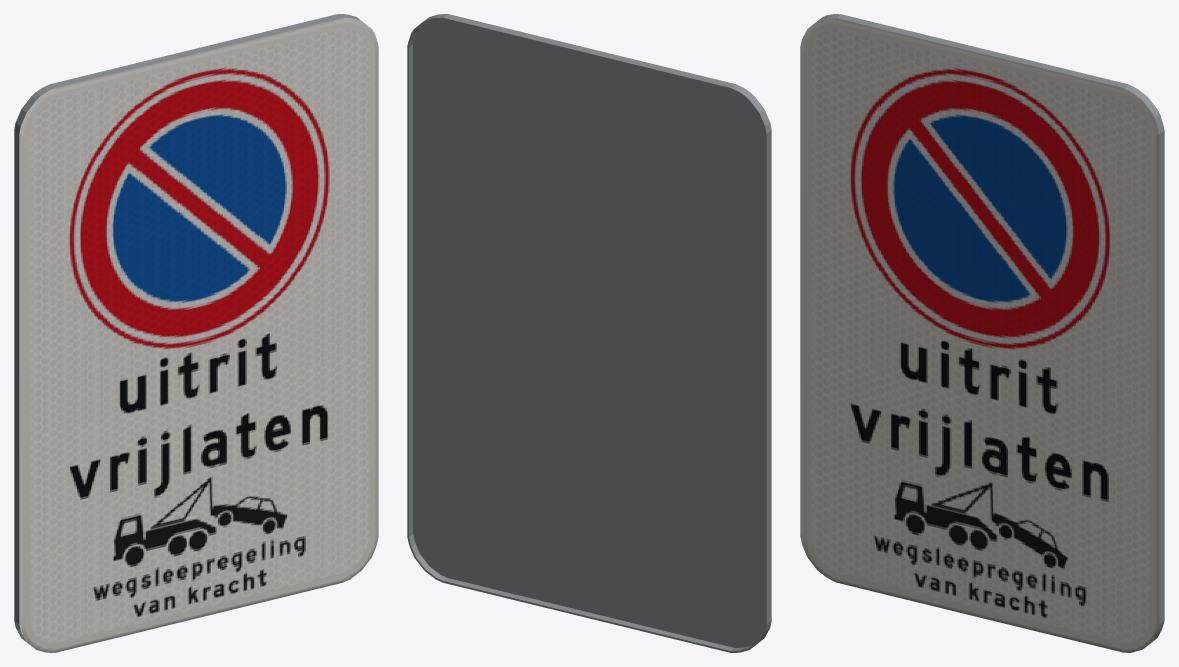
3 views of the same model, side by side, from view 1: azimuth 30°, elevation 25°; view 2: azimuth 150°, elevation 25°; view 3: azimuth 330°, elevation 25° (orthographic).
Visible parts, largest first — view 1: cat_f9aad74a2c49432d; view 2: cat_f9aad74a2c49432d; view 3: cat_f9aad74a2c49432d.
Boxes of the visible parts, left/top/right/bottom form: cat_f9aad74a2c49432d: left=14, top=14, right=378, bottom=652; cat_f9aad74a2c49432d: left=407, top=14, right=771, bottom=652; cat_f9aad74a2c49432d: left=800, top=14, right=1164, bottom=652.
Bounding box in the file's own units: 0.6 × 0.015 × 0.9012.
Materials: 2 (1 with a texture image).
